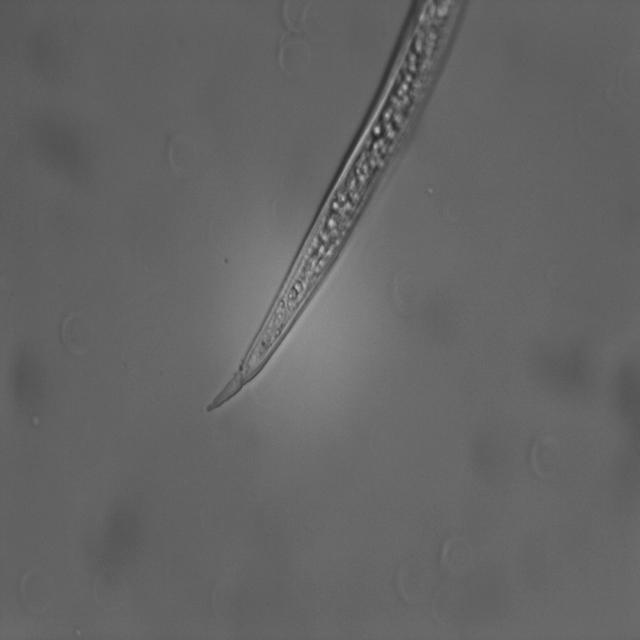Meloidogyne: (192, 0, 474, 418)
